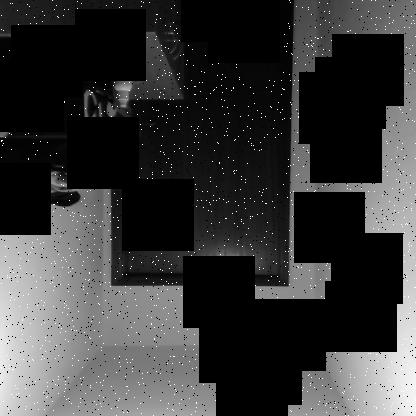Porte: (109, 1, 294, 288)
